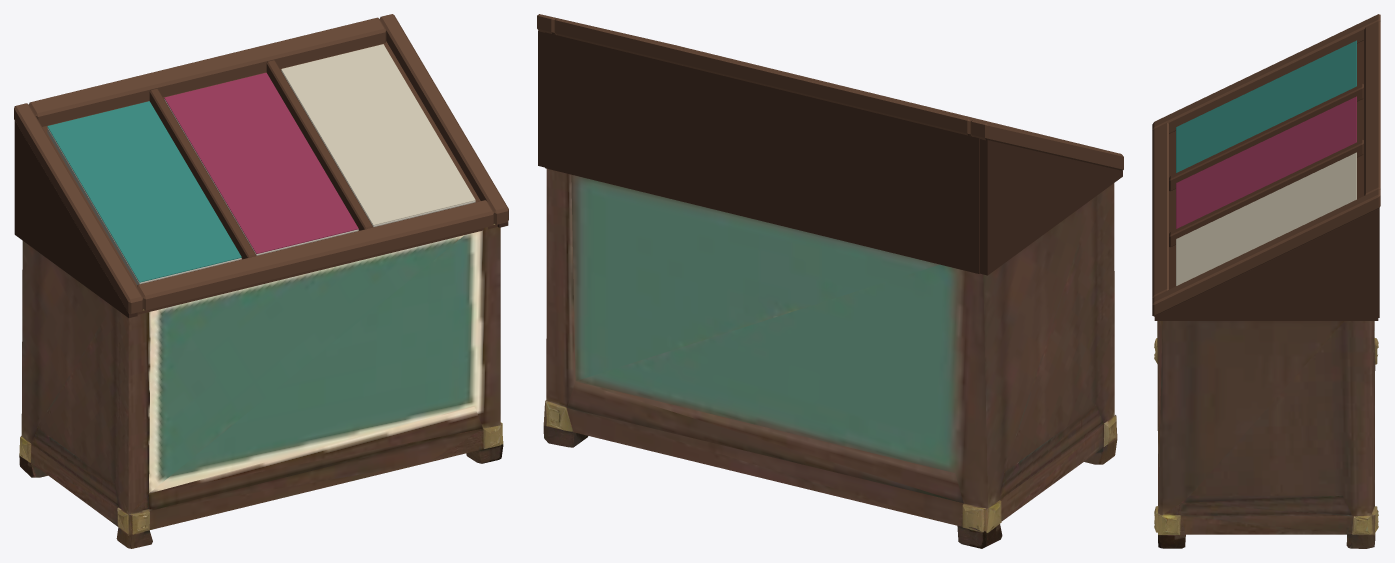
Rendered from pamphlet-stand-mobile.glb.
3 renders of one model, left to right at view 1: azimuth 30°, elevation 25°; view 2: azimuth 150°, elevation 25°; view 3: azimuth 270°, elevation 25°, orthographic. The views are drawn at different scales.
Visible parts, largest first — view 1: Mesh_0; view 2: Mesh_0; view 3: Mesh_0.
Boxes of the visible parts, x1,y1,x2,y2 form: Mesh_0: (14, 14, 508, 548); Mesh_0: (537, 14, 1123, 548); Mesh_0: (1152, 14, 1380, 548).
Size of the model in its own units: 1.89 by 1.72 by 1.
2 materials, 1 textured.
